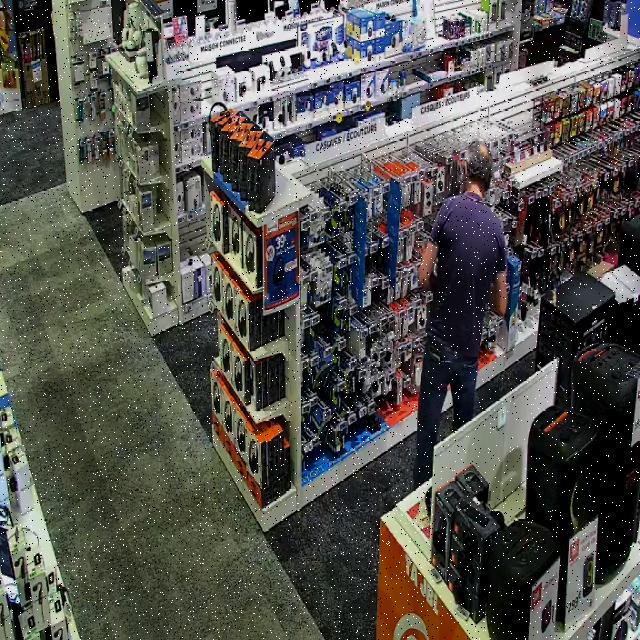person: (414, 140, 505, 487)
